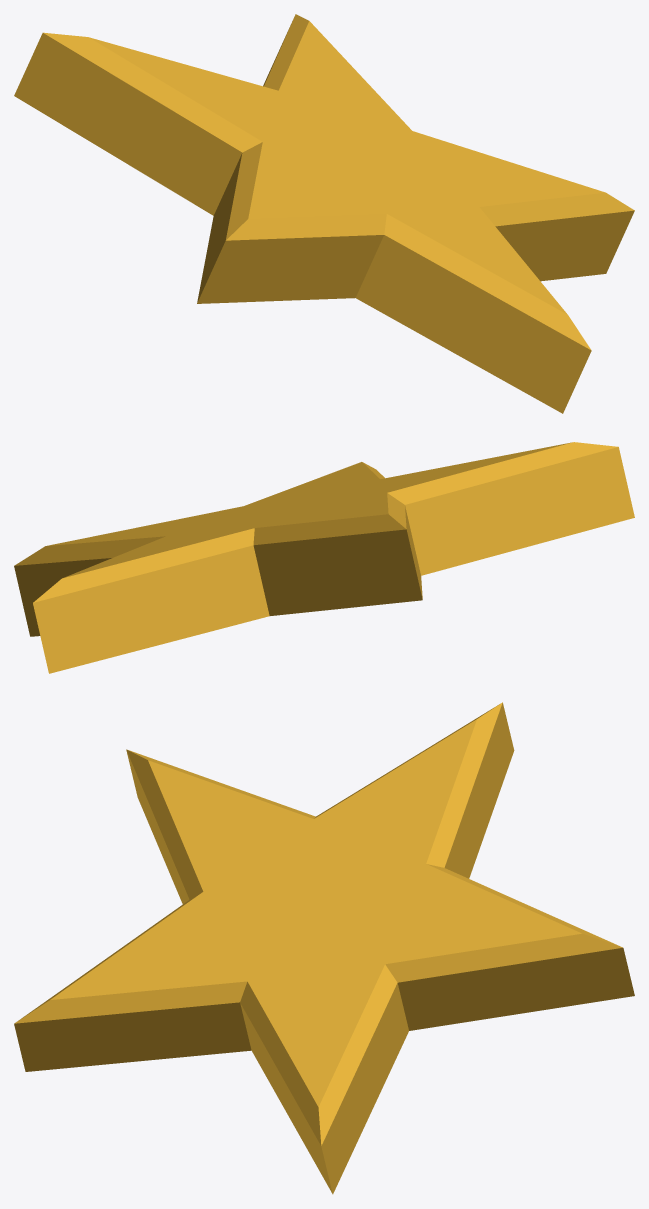
The model's file is star.glb.
The picture shows the model from 3 angles, top to bottom: view 1: azimuth 30°, elevation 25°; view 2: azimuth 150°, elevation 25°; view 3: azimuth 270°, elevation 25°; orthographic projection. The views are drawn at different scales.
Parts seen in each view (by area): view 1: Circle; view 2: Circle; view 3: Circle.
Part boxes in pixels (x1,y1,x2,y2): Circle: [14, 14, 634, 413]; Circle: [14, 442, 634, 673]; Circle: [14, 702, 634, 1194].
Bounding box in the file's own units: 1.8 × 0.9323 × 1.91.
